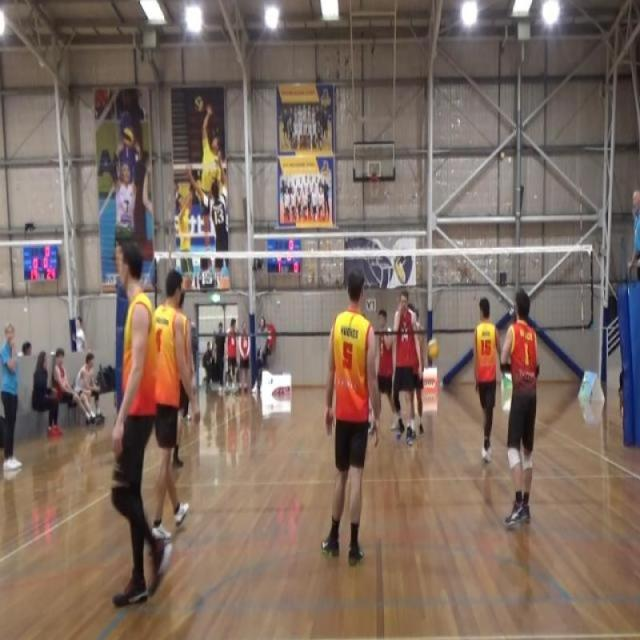volleyball: (425, 336, 440, 361), (121, 123, 135, 149), (193, 92, 204, 114)
